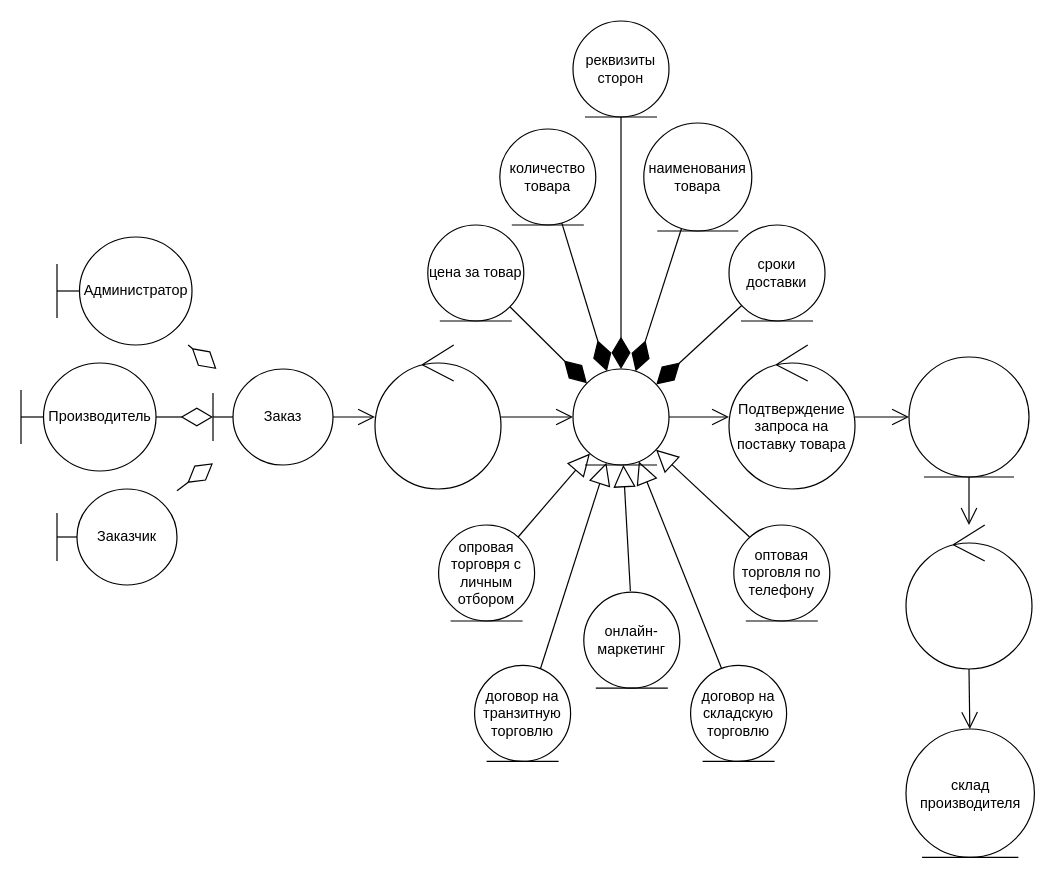
The diagram is 1056 pixels wide and 878 high, and some of its shapes have lost their labels. Each missing label, with the centre of its shape:
Договор на поставку товара: pixel 620 416
Заключение договора на поставку: pixel 437 416
Запрос на отгрузку товара по договору: pixel 968 596
контора производителя: pixel 968 416
